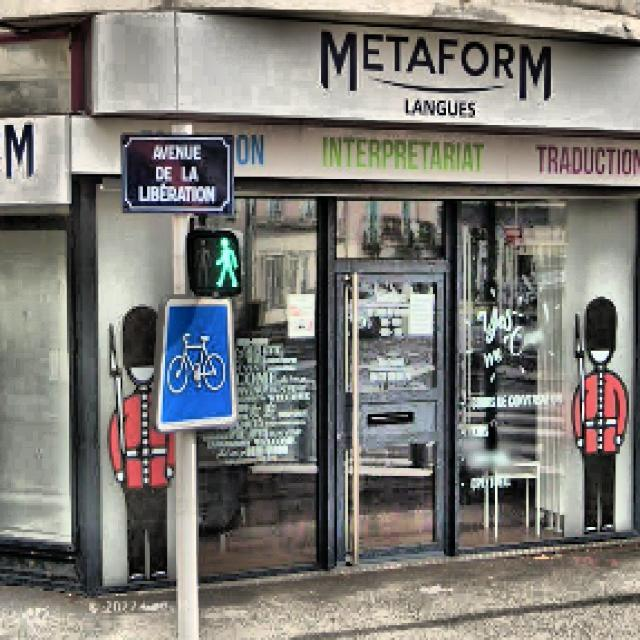green_light: (208, 230, 242, 290)
